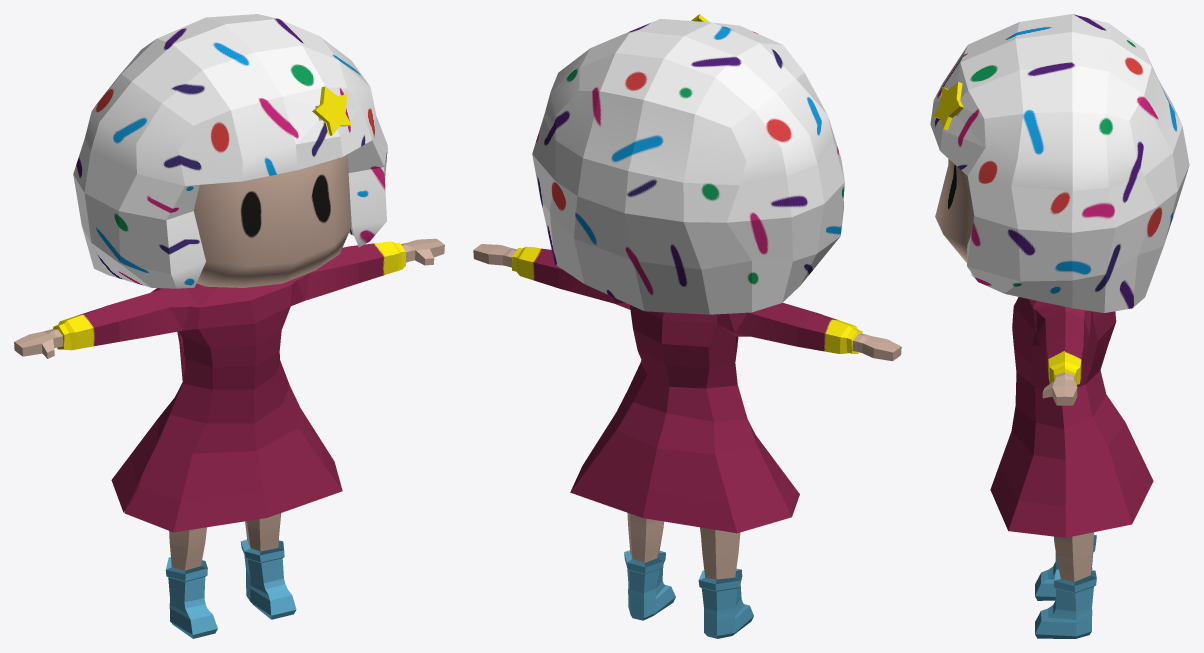
The model's file is Pops_texturizada.fbx.
3 renders of one model, left to right at view 1: azimuth 30°, elevation 25°; view 2: azimuth 150°, elevation 25°; view 3: azimuth 270°, elevation 25°, orthographic.
Visible parts, largest first — view 1: pCylinder2; view 2: pCylinder2; view 3: pCylinder2.
Boxes of the visible parts, x1,y1,x2,y2 form: pCylinder2: (14, 14, 444, 638); pCylinder2: (473, 14, 901, 638); pCylinder2: (930, 14, 1189, 638).
Bounding box in the file's own units: 64.33 × 85.8 × 34.61.
